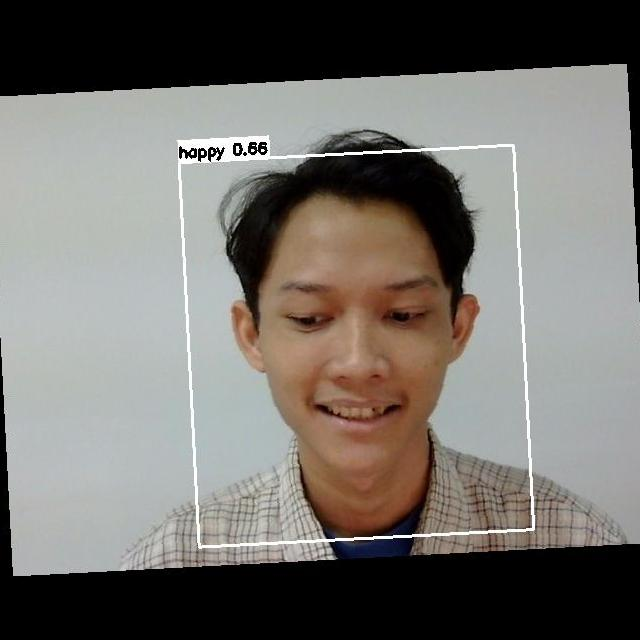Happy: (243, 247, 469, 451)
